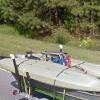Boat: (3, 48, 100, 97)
